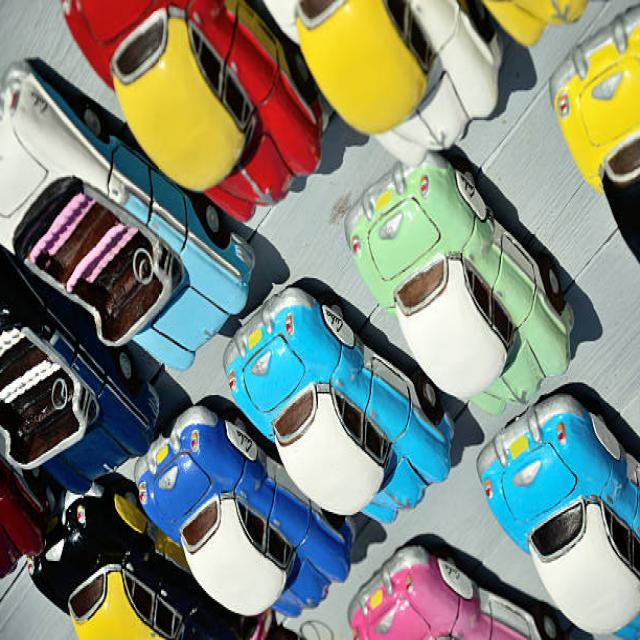Car: (1, 60, 256, 373), (344, 152, 575, 418), (62, 2, 324, 225), (223, 286, 456, 526), (135, 404, 357, 620), (1, 246, 161, 499), (264, 2, 505, 169), (477, 394, 640, 638), (549, 5, 640, 265), (348, 544, 565, 640)
